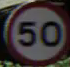Speed limit: (7, 2, 64, 58)
